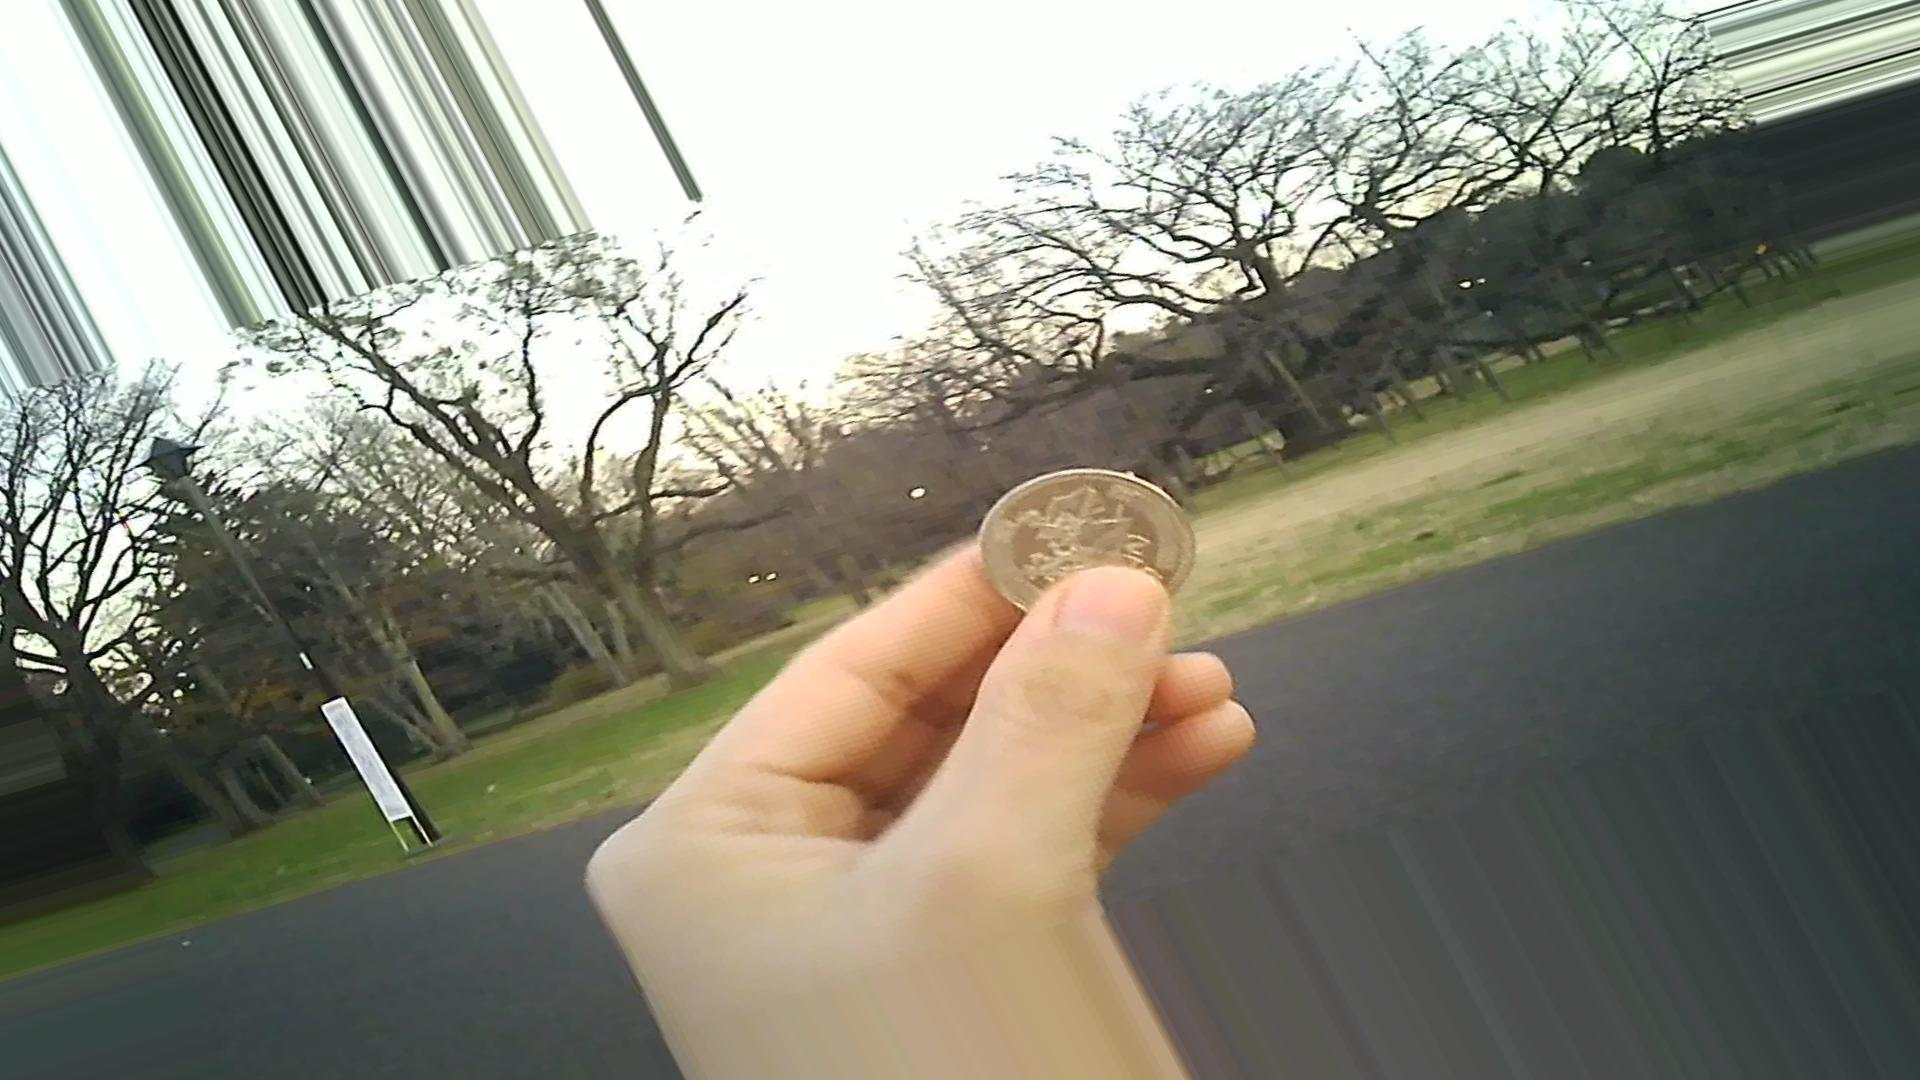500 Yen: (978, 458, 1197, 629)
